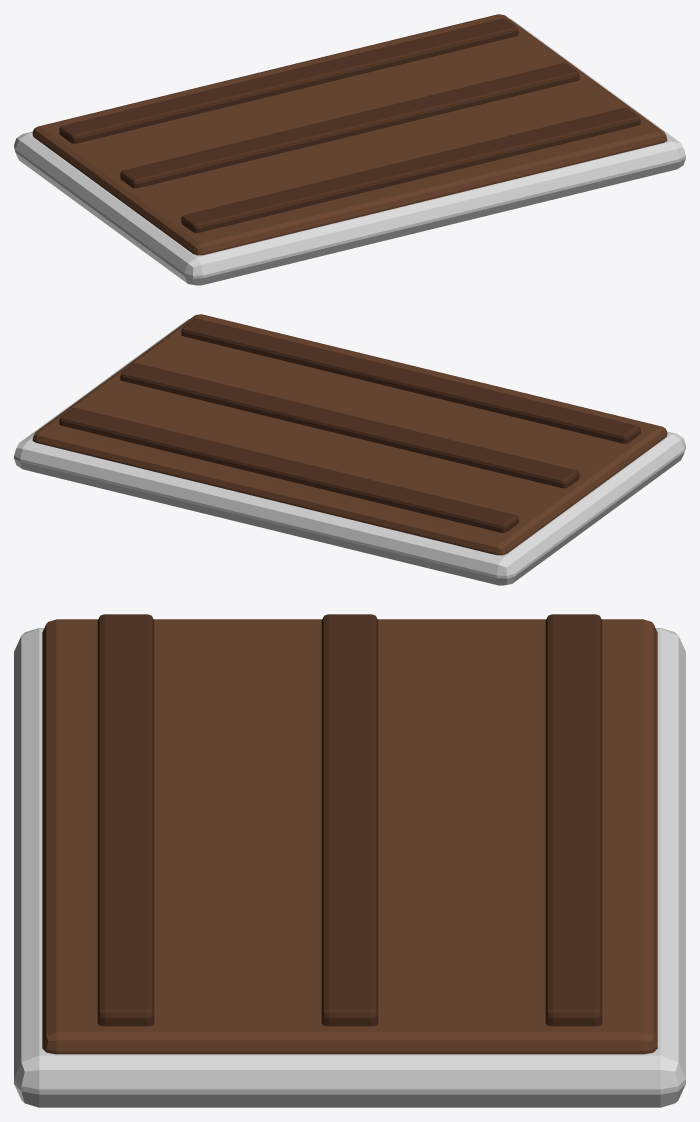
File: crop_bed.fbx
The picture shows the model from 3 angles, top to bottom: view 1: azimuth 30°, elevation 25°; view 2: azimuth 150°, elevation 25°; view 3: azimuth 270°, elevation 25°; orthographic projection. The views are drawn at different scales.
Parts seen in each view (by area): view 1: crop_bed_soil, crop_bed; view 2: crop_bed_soil, crop_bed; view 3: crop_bed_soil, crop_bed.
Part boxes in pixels (x1=…): crop_bed_soil: x1=32, y1=14, x2=667, y2=255; crop_bed: x1=14, y1=19, x2=685, y2=285; crop_bed_soil: x1=32, y1=314, x2=667, y2=555; crop_bed: x1=14, y1=319, x2=685, y2=585; crop_bed_soil: x1=42, y1=614, x2=657, y2=1054; crop_bed: x1=14, y1=628, x2=685, y2=1107.
Size of the model in its own units: 1.5 by 0.1275 by 0.95.
